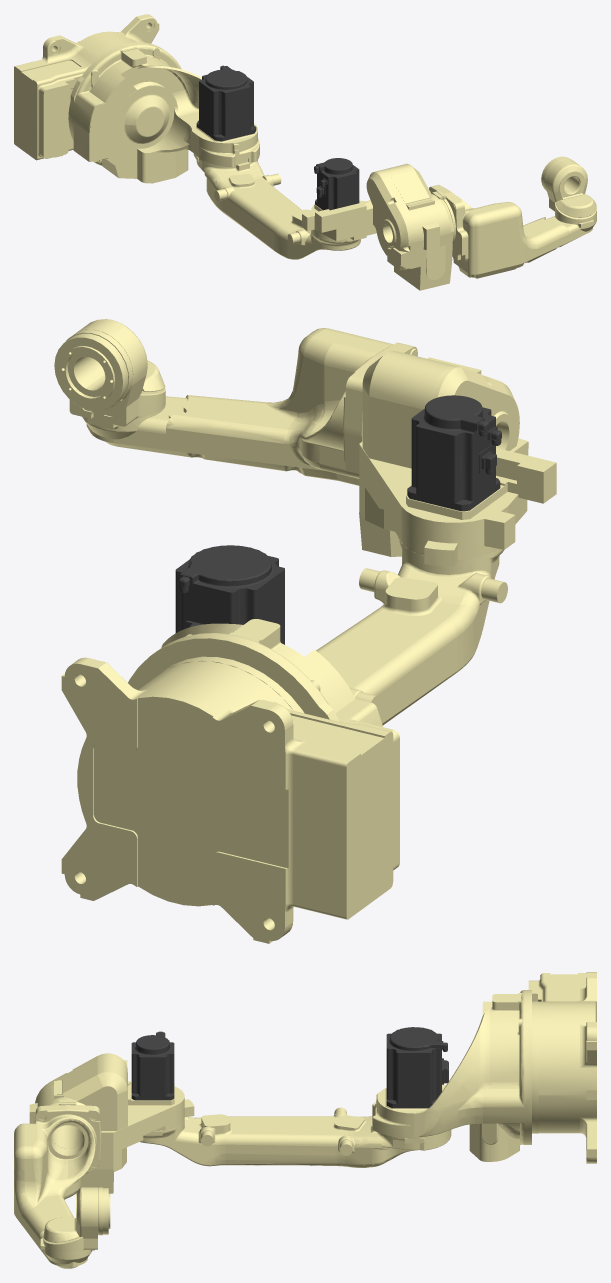
3 views of the same model, one above another, from view 1: azimuth 30°, elevation 25°; view 2: azimuth 150°, elevation 25°; view 3: azimuth 270°, elevation 25° (orthographic). The views are drawn at different scales.
Parts seen in each view (by area): view 1: empty_3, empty_5, empty_2, empty_6, empty_4, empty_10, empty_7, empty_9; view 2: empty_2, empty_5, empty_6, empty_4, empty_3, empty_9, empty_10, empty_7, empty_8; view 3: empty_3, empty_4, empty_2, empty_6, empty_5, empty_10, empty_7, empty_9.
Part boxes in pixels (x1,y1,x2,y2): empty_3: (68, 42, 259, 183); empty_5: (302, 163, 453, 290); empty_2: (14, 14, 159, 160); empty_6: (429, 185, 596, 278); empty_4: (193, 153, 360, 259); empty_10: (196, 65, 256, 141); empty_7: (541, 156, 596, 223); empty_9: (314, 158, 359, 210); empty_2: (61, 657, 399, 943); empty_5: (359, 350, 556, 566); empty_6: (82, 328, 417, 485); empty_4: (316, 537, 507, 725); empty_3: (128, 619, 382, 726); empty_9: (407, 395, 501, 511); empty_10: (175, 545, 284, 644); empty_7: (54, 319, 165, 426); empty_8: (61, 346, 115, 403); empty_3: (372, 990, 538, 1161); empty_4: (140, 1107, 451, 1167); empty_2: (528, 972, 596, 1163); empty_6: (14, 1102, 101, 1268); empty_5: (29, 1053, 194, 1193); empty_10: (386, 1027, 448, 1108); empty_7: (43, 1187, 108, 1252); empty_9: (131, 1031, 174, 1100).
Size of the model in its own units: 1128 by 365 by 1372.
